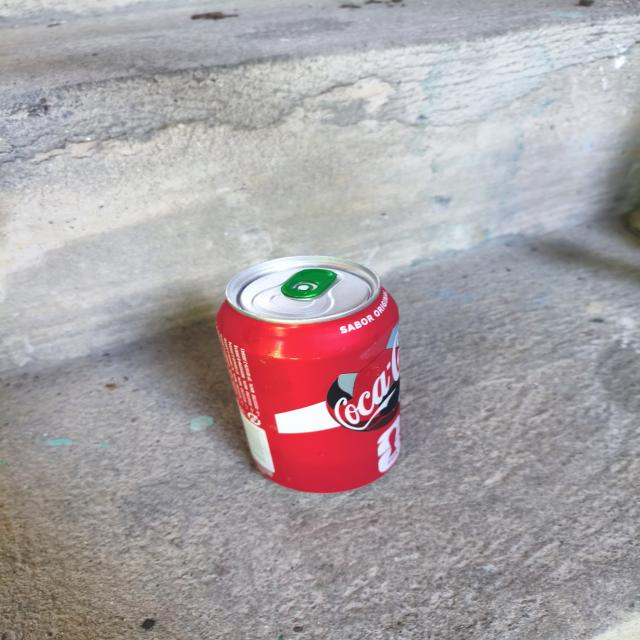Coca Cola: (182, 238, 447, 528)
